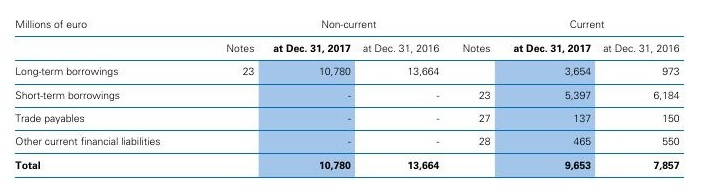table: (0, 0, 706, 193)
